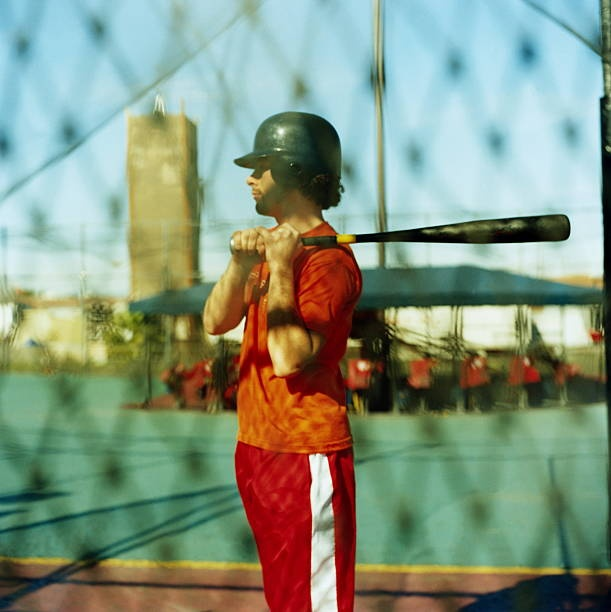bita: (292, 215, 569, 263)
